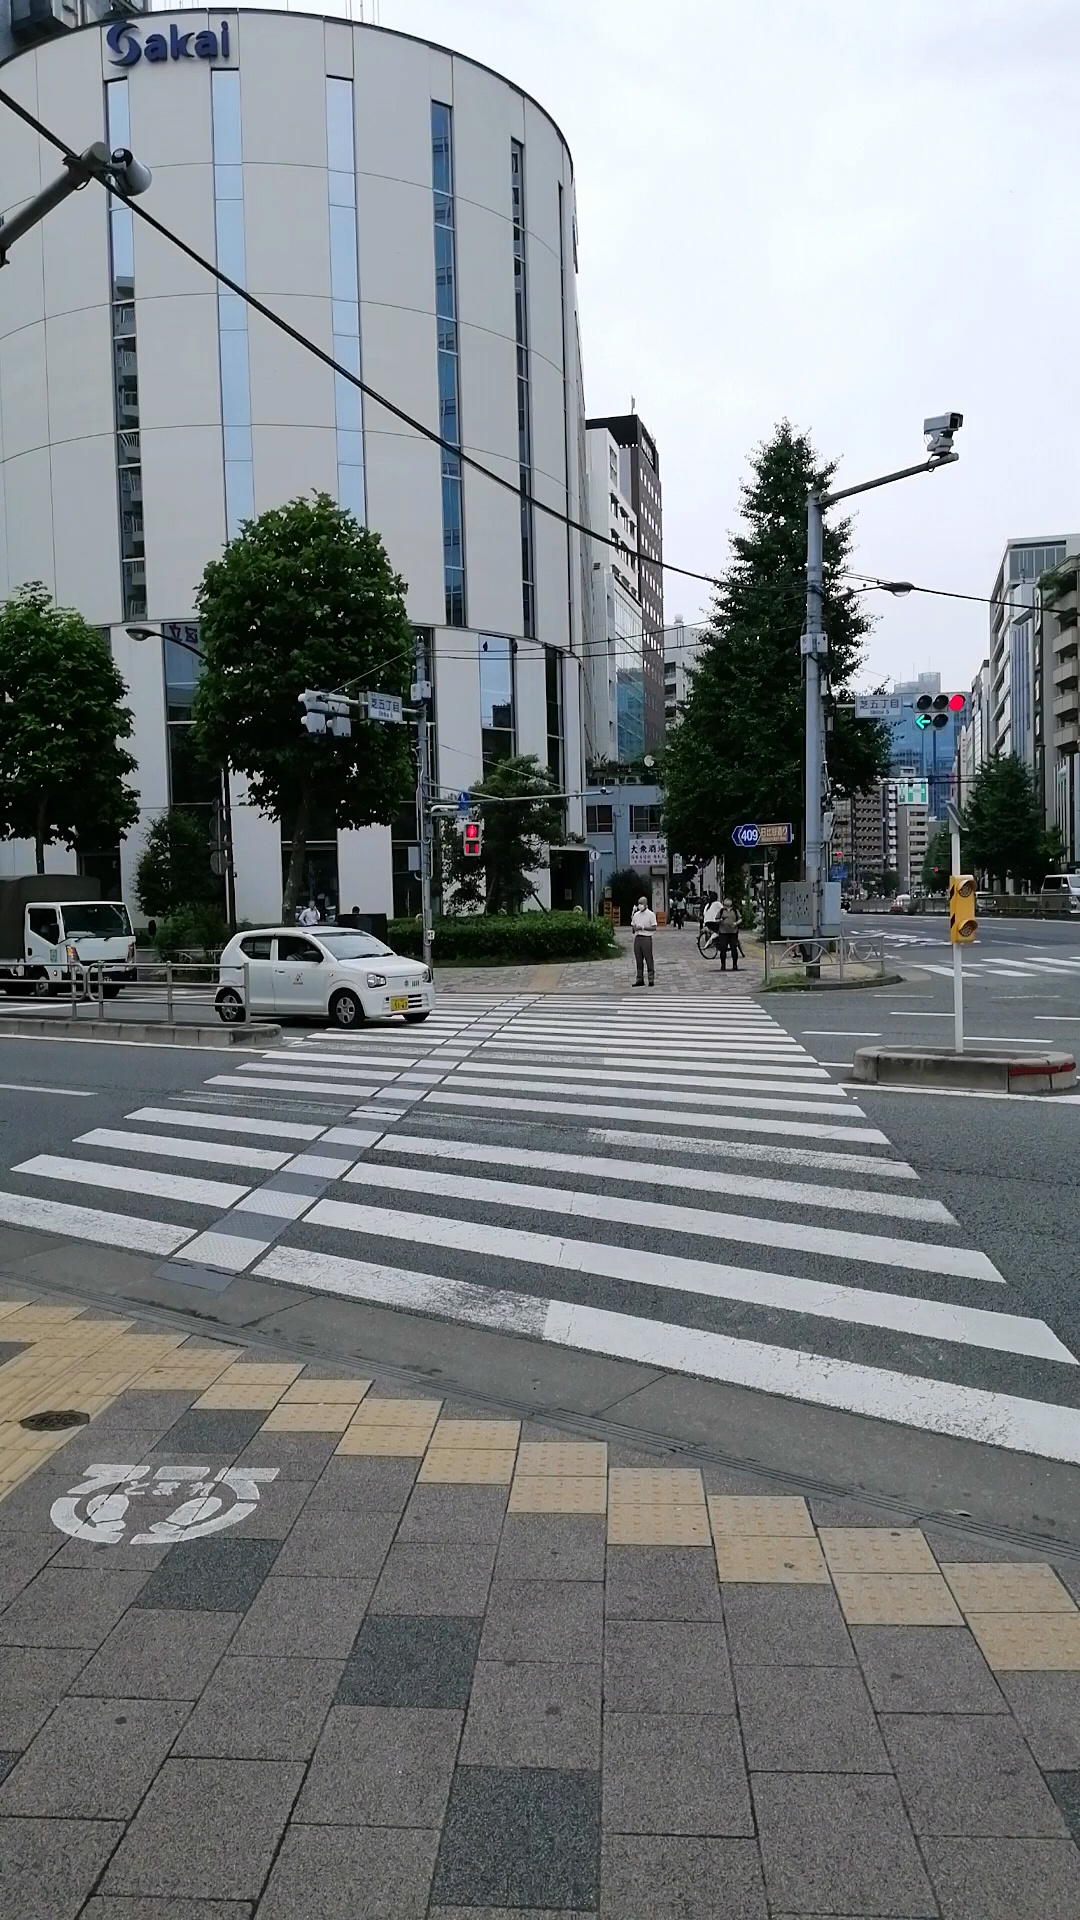red: (462, 819, 481, 858)
